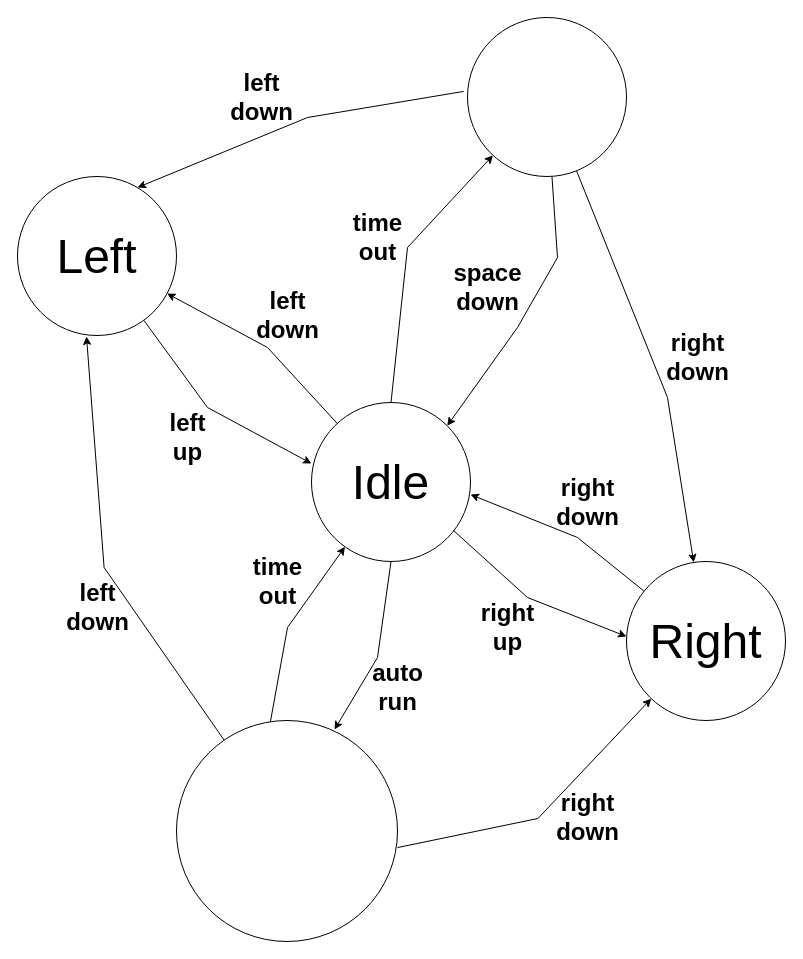
The diagram is 803 pixels wide and 959 high, and some of its shapes have lost their labels. The box of each missing label's shape, as (x1, y1, x2, y2) in pixels:
AutoRun: (176, 720, 398, 942)
Sleep: (466, 16, 626, 176)
